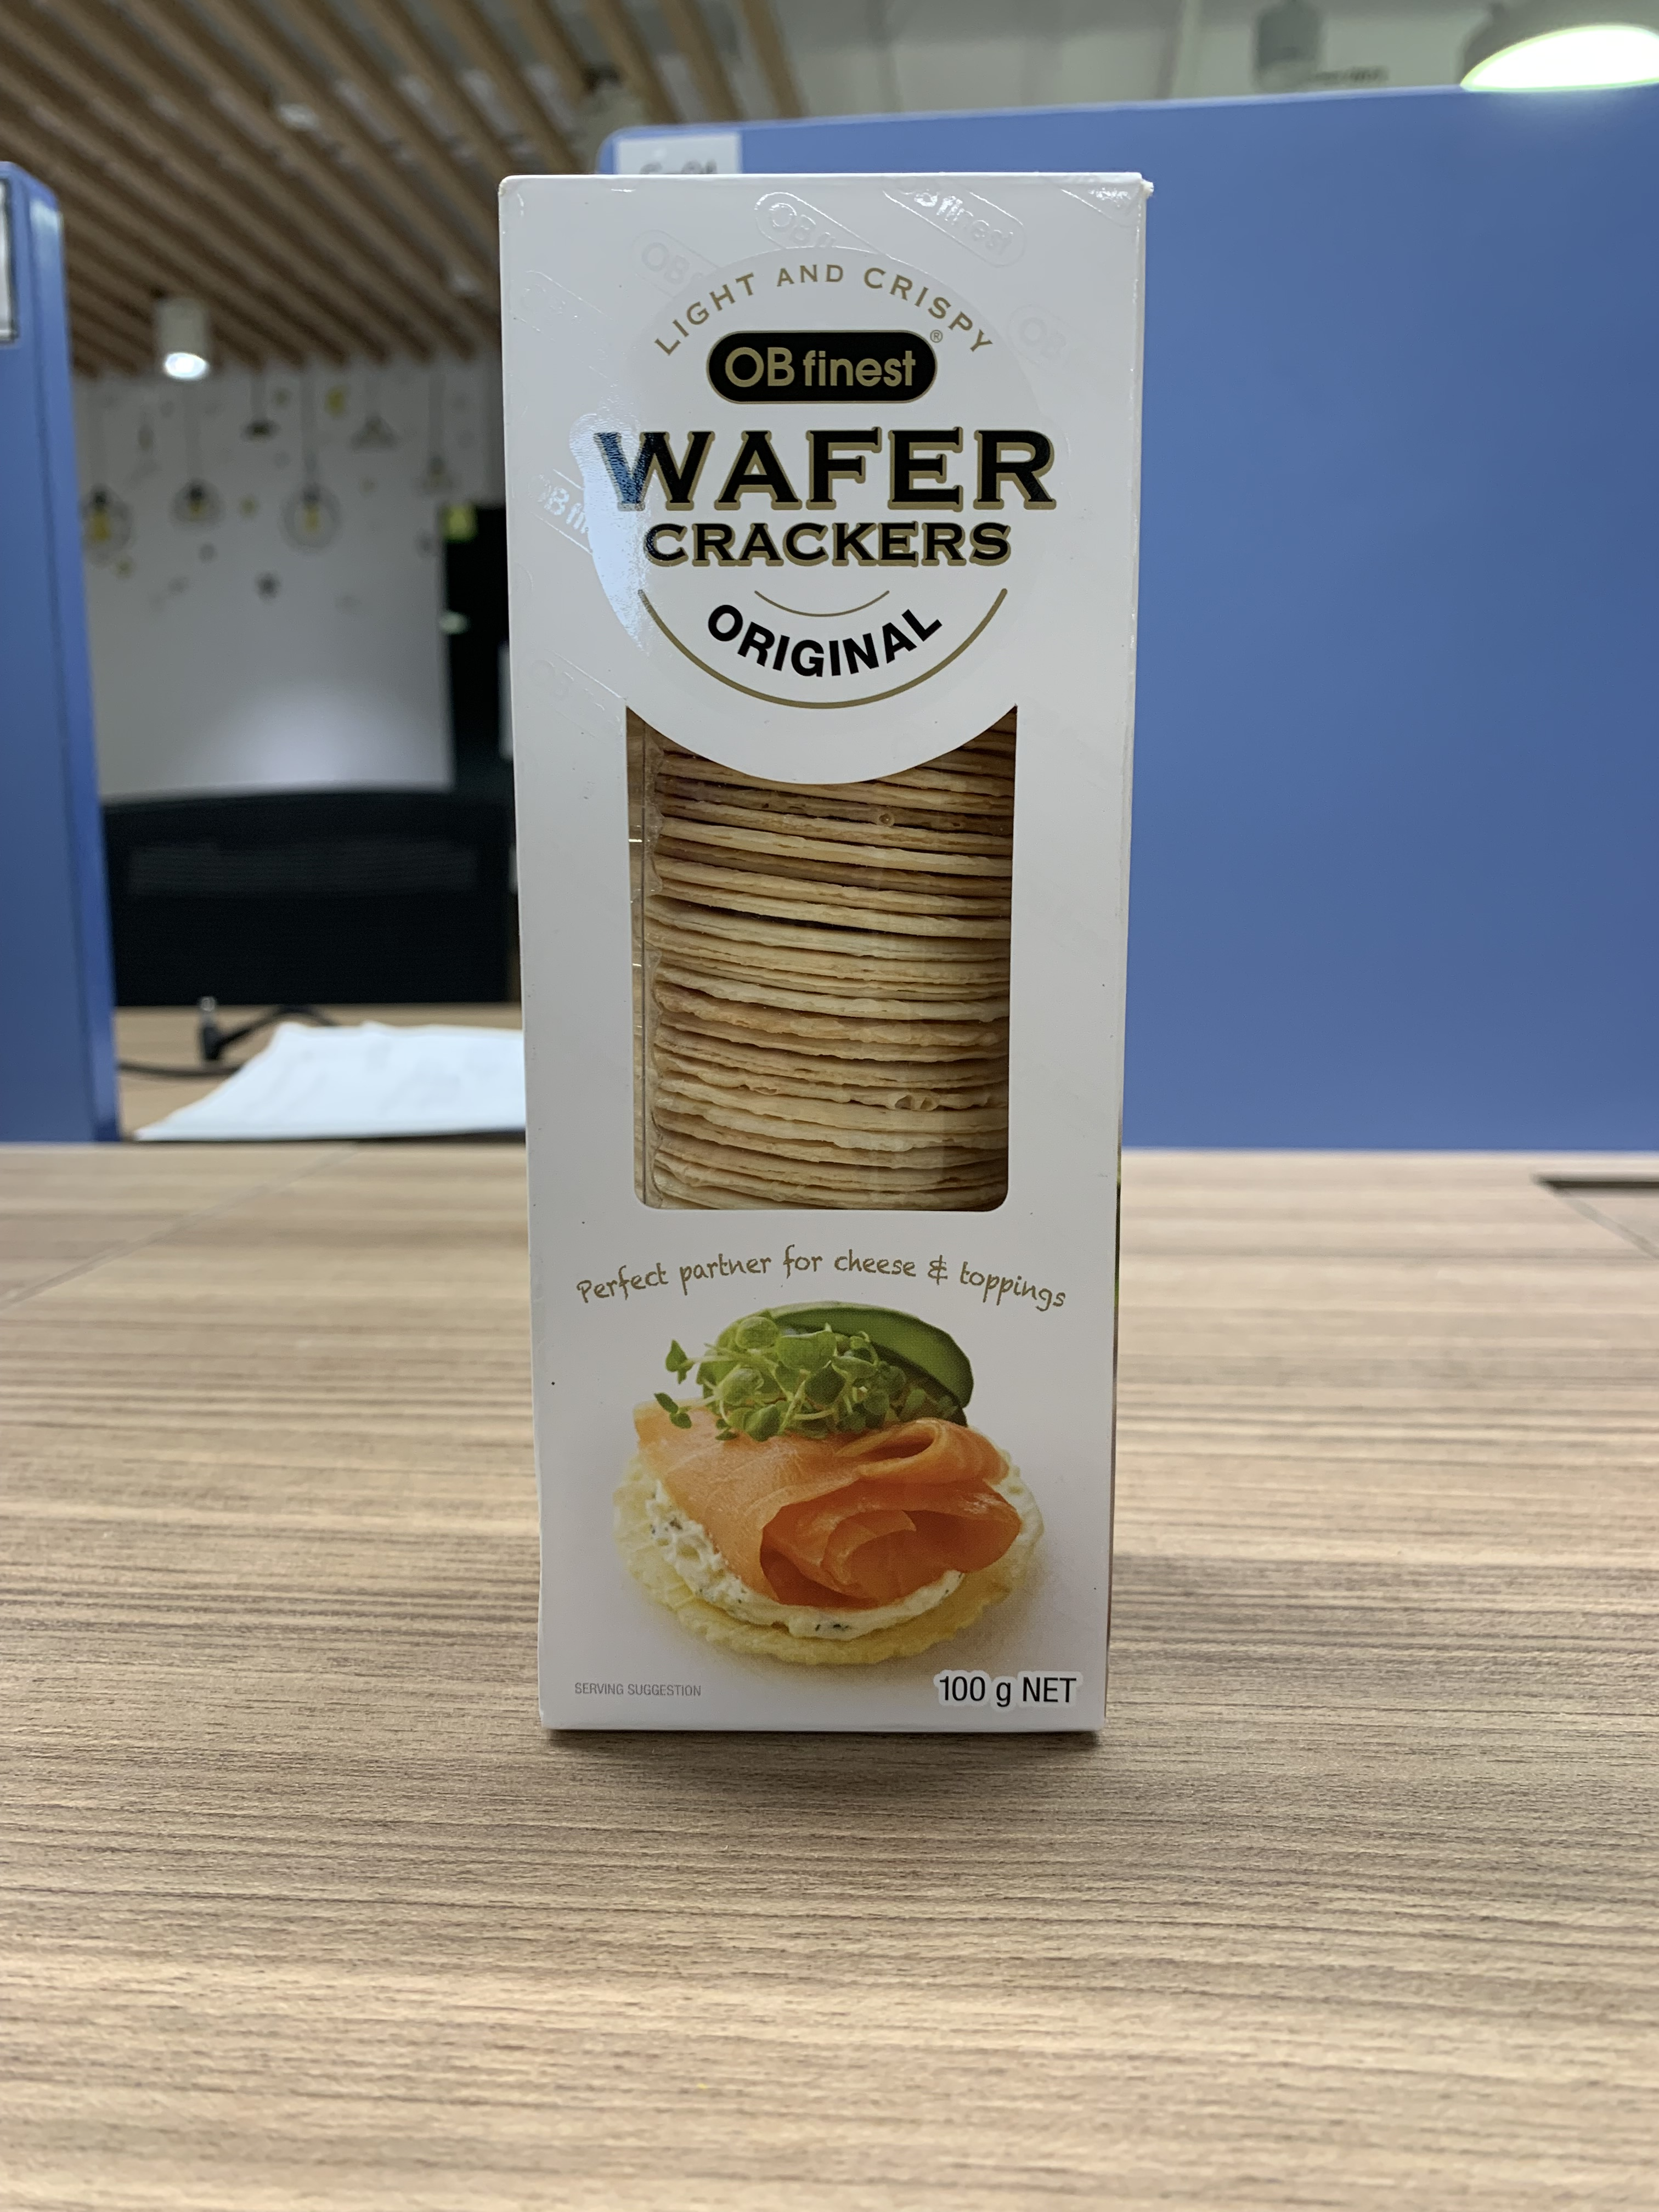crackers: (486, 143, 1171, 1764)
